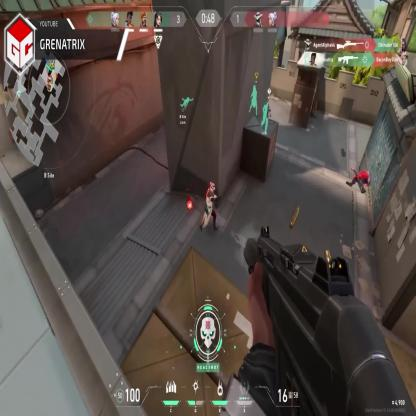enemy: (202, 180, 217, 232)
enemy_head: (210, 181, 215, 192)
